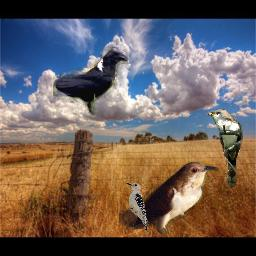Crow: (53, 47, 129, 115)
Cuckoo: (119, 161, 219, 234), (206, 109, 243, 187)
Woodpecker: (125, 180, 150, 235)
